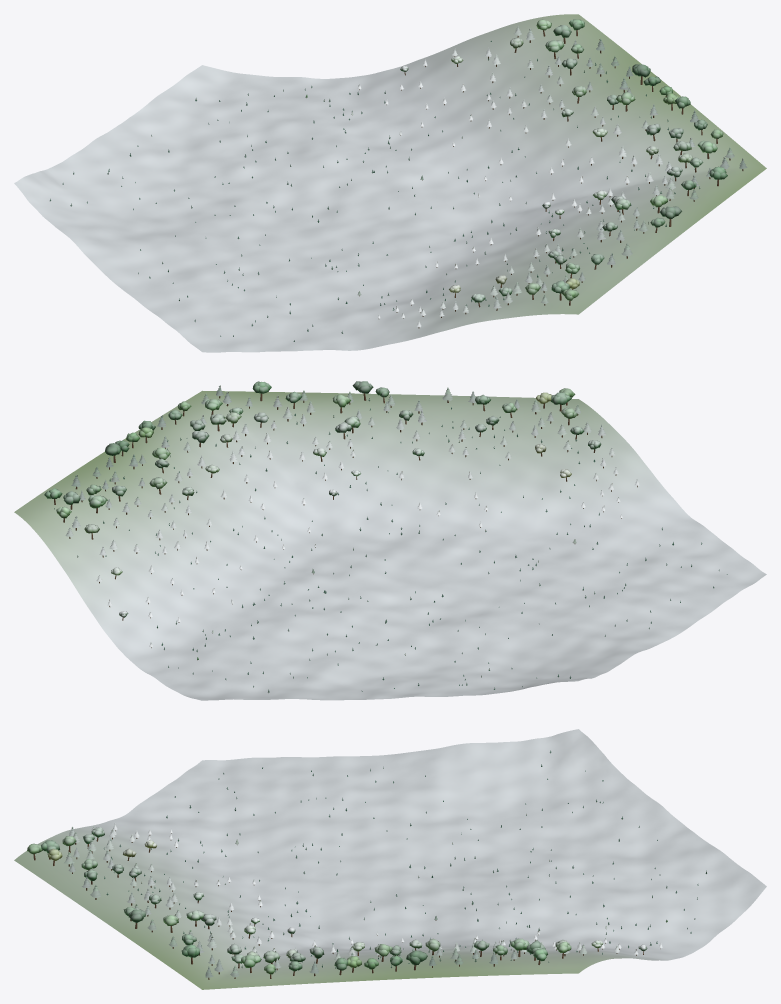
3 views of the same model, one above another, from view 1: azimuth 30°, elevation 25°; view 2: azimuth 150°, elevation 25°; view 3: azimuth 270°, elevation 25° (orthographic).
Visible parts, largest first — view 1: terrain_v10, ecotone_broadleaf_canopy, ecotone_conifer_canopy, snow_pines_nonmetal, ecotone_trunks; view 2: terrain_v10, ecotone_broadleaf_canopy, ecotone_conifer_canopy, ecotone_trunks, snow_pines_nonmetal; view 3: terrain_v10, ecotone_broadleaf_canopy, ecotone_conifer_canopy, snow_pines_nonmetal, ecotone_trunks.
Boxes of the visible parts, bbox=[...] form: terrain_v10: bbox=[14, 14, 766, 352]; ecotone_broadleaf_canopy: bbox=[400, 19, 727, 302]; ecotone_conifer_canopy: bbox=[305, 26, 747, 327]; snow_pines_nonmetal: bbox=[50, 41, 700, 341]; ecotone_trunks: bbox=[359, 30, 743, 328]; terrain_v10: bbox=[14, 390, 766, 700]; ecotone_broadleaf_canopy: bbox=[44, 381, 601, 617]; ecotone_conifer_canopy: bbox=[65, 385, 639, 659]; ecotone_trunks: bbox=[54, 386, 637, 660]; snow_pines_nonmetal: bbox=[54, 398, 727, 692]; terrain_v10: bbox=[14, 729, 766, 989]; ecotone_broadleaf_canopy: bbox=[27, 827, 647, 974]; ecotone_conifer_canopy: bbox=[64, 823, 667, 977]; snow_pines_nonmetal: bbox=[104, 750, 707, 972]; ecotone_trunks: bbox=[33, 830, 666, 979].
Bounding box in the file's own units: 4330 × 579 × 5000.
6 materials, 1 textured.
